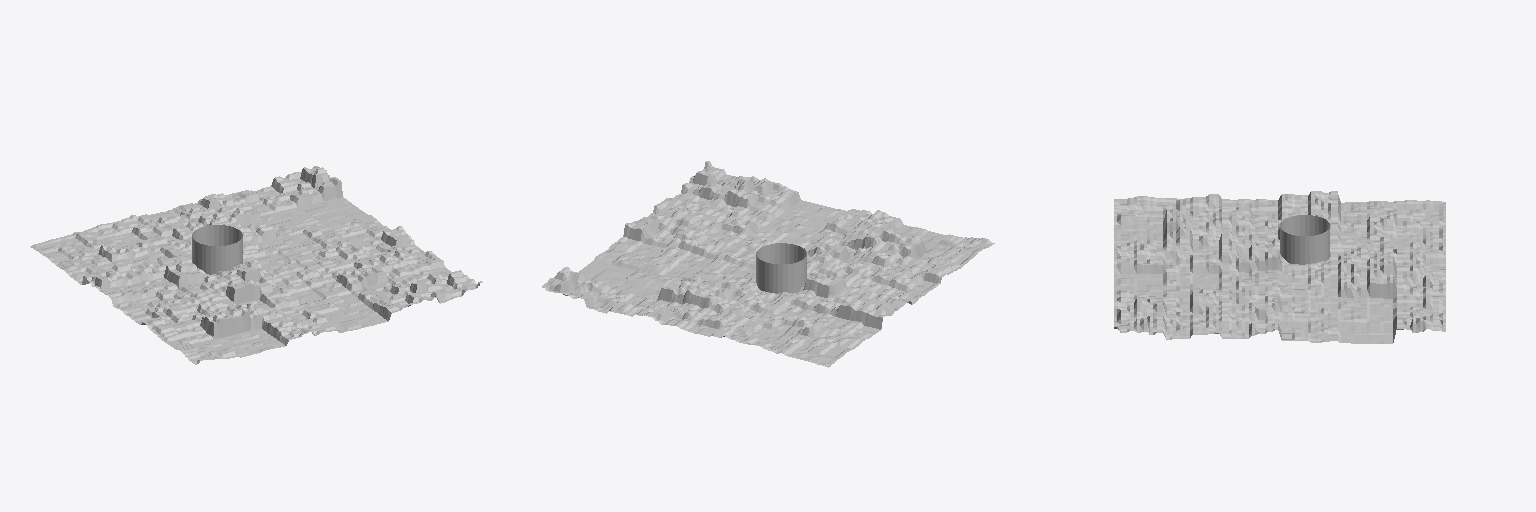
Rendered from terrain_squares2.obj.
The picture shows the model from 3 angles: view 1: azimuth 30°, elevation 25°; view 2: azimuth 150°, elevation 25°; view 3: azimuth 270°, elevation 25°; orthographic projection.
Visible parts, largest first — view 1: Plane, Circle; view 2: Plane, Circle; view 3: Plane, Circle.
Part boxes in pixels (bbox=[...]): Plane: bbox=[30, 166, 482, 364]; Circle: bbox=[192, 225, 242, 274]; Plane: bbox=[542, 161, 994, 367]; Circle: bbox=[756, 243, 806, 293]; Plane: bbox=[1114, 191, 1445, 343]; Circle: bbox=[1280, 215, 1329, 264].
Size of the model in its own units: 150 by 17.58 by 150.